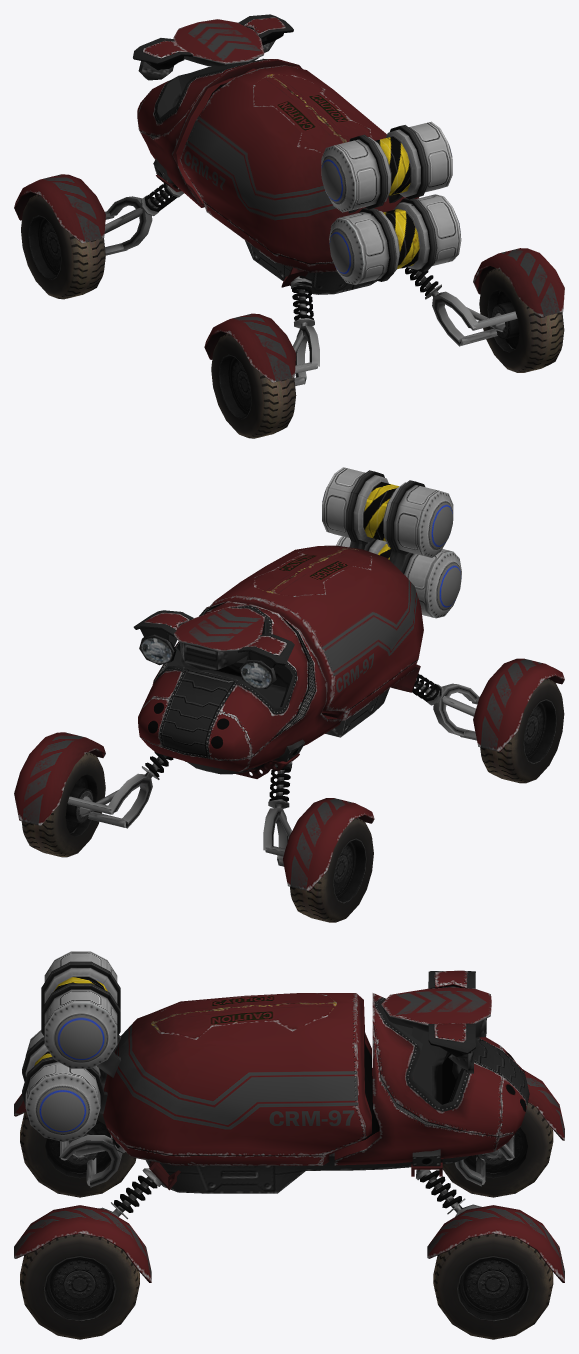
Rendered from rover_red.dae.
3 renders of one model, top to bottom at view 1: azimuth 30°, elevation 25°; view 2: azimuth 150°, elevation 25°; view 3: azimuth 270°, elevation 25°, orthographic. The views are drawn at different scales.
Visible parts, largest first — view 1: body, OilTank002, OilTank003, object 2, wheel001, wheel, wheel003, pop_up, wheel_well, wheel_well001, wheel_well003, object 17 (+6 smaller); view 2: object 2, body, OilTank002, pop_up, wheel001, wheel, wheel_well, wheel_well001, wheel_well002, wheel002, OilTank003, Cylinder050 (+6 smaller); view 3: body, object 2, wheel002, wheel003, OilTank002, OilTank003, pop_up, Cylinder014, wheel, wheel001, wheel_well003, wheel_well002 (+8 smaller).
Part boxes in pixels (x1=…): body: x1=179, y1=65, x2=418, y2=272; OilTank002: x1=321, y1=121, x2=452, y2=213; OilTank003: x1=329, y1=194, x2=461, y2=284; object 2: x1=137, y1=58, x2=302, y2=207; wheel001: x1=211, y1=333, x2=296, y2=438; wheel: x1=21, y1=194, x2=105, y2=299; wheel003: x1=479, y1=268, x2=564, y2=372; pop_up: x1=173, y1=14, x2=293, y2=66; wheel_well: x1=14, y1=174, x2=105, y2=243; wheel_well001: x1=204, y1=313, x2=296, y2=382; wheel_well003: x1=473, y1=248, x2=564, y2=317; object 17: x1=253, y1=75, x2=345, y2=153; object 2: x1=138, y1=601, x2=341, y2=772; body: x1=210, y1=545, x2=423, y2=720; OilTank002: x1=322, y1=467, x2=453, y2=570; pop_up: x1=133, y1=607, x2=264, y2=669; wheel001: x1=480, y1=678, x2=564, y2=783; wheel: x1=290, y1=818, x2=373, y2=922; wheel_well: x1=282, y1=798, x2=374, y2=891; wheel_well001: x1=473, y1=658, x2=564, y2=751; wheel_well002: x1=14, y1=732, x2=105, y2=825; wheel002: x1=21, y1=752, x2=105, y2=857; OilTank003: x1=336, y1=536, x2=461, y2=618; Cylinder050: x1=67, y1=752, x2=173, y2=828; body: x1=103, y1=993, x2=371, y2=1165; object 2: x1=334, y1=993, x2=529, y2=1166; wheel002: x1=433, y1=1234, x2=553, y2=1339; wheel003: x1=20, y1=1234, x2=139, y2=1339; OilTank002: x1=41, y1=951, x2=121, y2=1077; OilTank003: x1=22, y1=1030, x2=107, y2=1141; pop_up: x1=381, y1=987, x2=491, y2=1073; Cylinder014: x1=145, y1=1156, x2=469, y2=1193; wheel: x1=442, y1=1103, x2=553, y2=1197; wheel001: x1=20, y1=1112, x2=136, y2=1197; wheel_well003: x1=14, y1=1205, x2=151, y2=1282; wheel_well002: x1=427, y1=1205, x2=564, y2=1282.
Size of the model in its own units: 2.17 by 3.03 by 1.75.
Materials: 1 (1 with a texture image).
